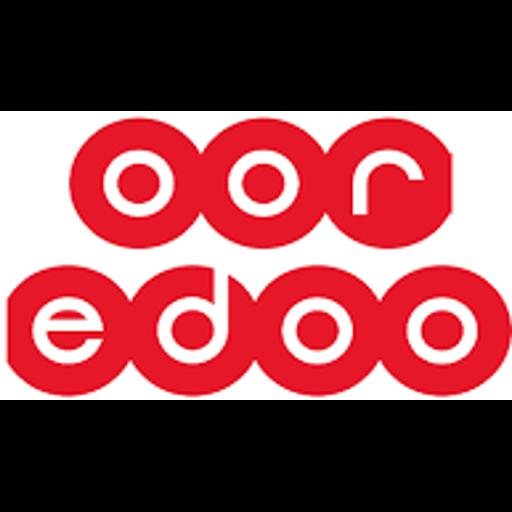Ooredoo QSC: (0, 111, 512, 400)
